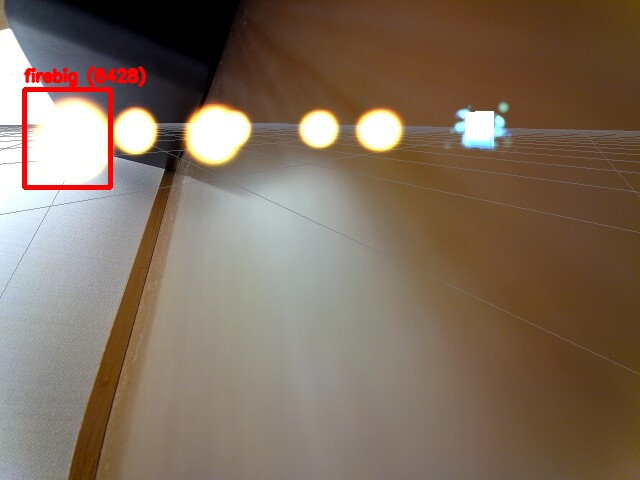firebig: (24, 89, 110, 187)
